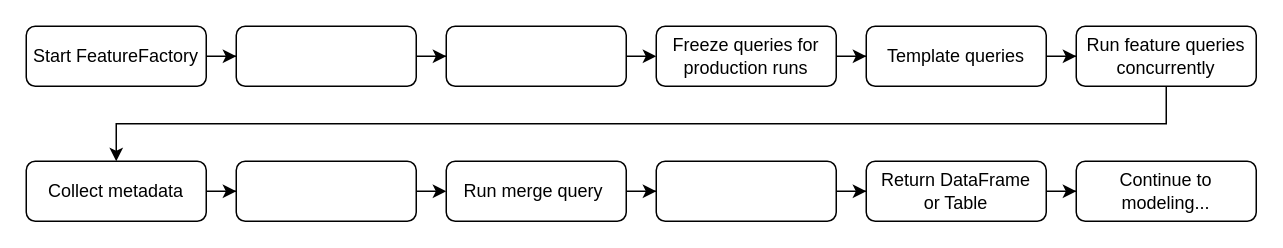
Image size: 1283x248. Some labels were removed from this diagram. The shapes that lost their labels are listed below. From the top down, each one's centre as x and y in pixels, then its label:
pixel 325 55: Stage left-most table
pixel 535 55: Parse and collect queries
pixel 325 190: Dynamically build multi-merge query
pixel 745 190: Drop intermediate feature tables
